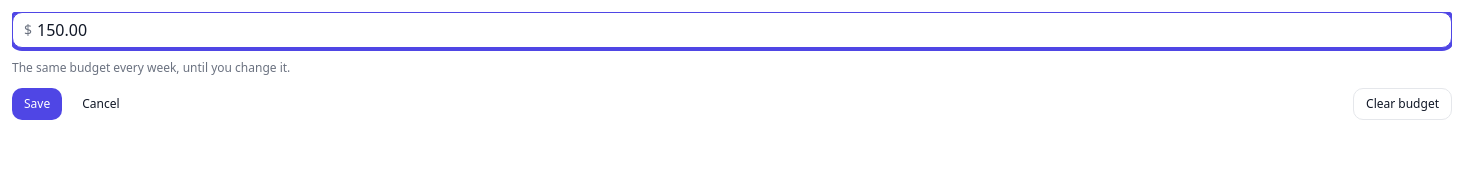
Test: WeekBudgetEditor › refuses what is not an amount, or below zero, before sending anything
Replace the text in the field named "Weekly budget for Groceries" with "lots": (732, 30) [12, 12, 1452, 48]
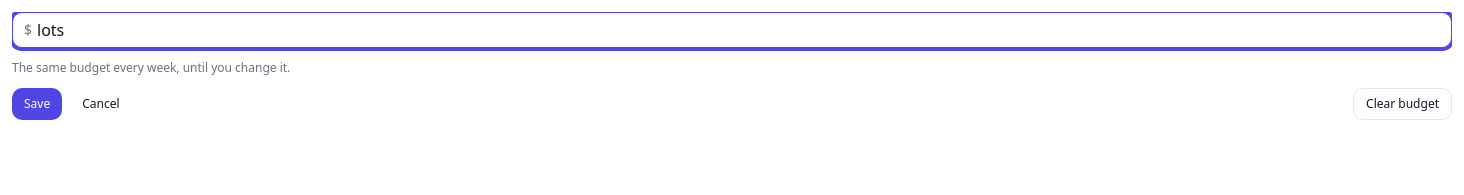
Click the button "Save": (37, 104) [12, 88, 62, 120]
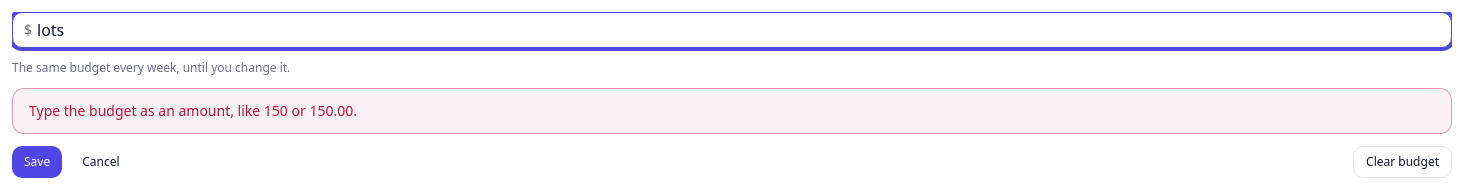
Result: the text "Type the budget as an amount, like 150 or 150.00." is shown at [29, 101, 357, 120]
Replace the text in the field named "Weekly budget for Groceries" with "-5": (732, 30) [12, 12, 1452, 48]
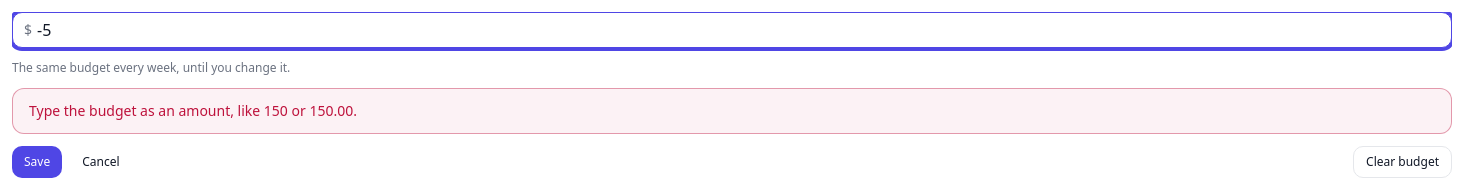
Click the button "Save": (37, 162) [12, 146, 62, 178]
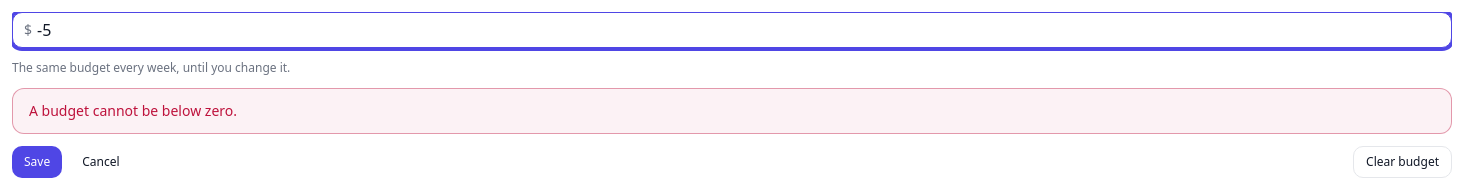
Result: the text "A budget cannot be below zero." is shown at [29, 101, 237, 120]
Replace the text in the field named "Weekly budget for Groceries" with "90071992547409.91": (732, 30) [12, 12, 1452, 48]
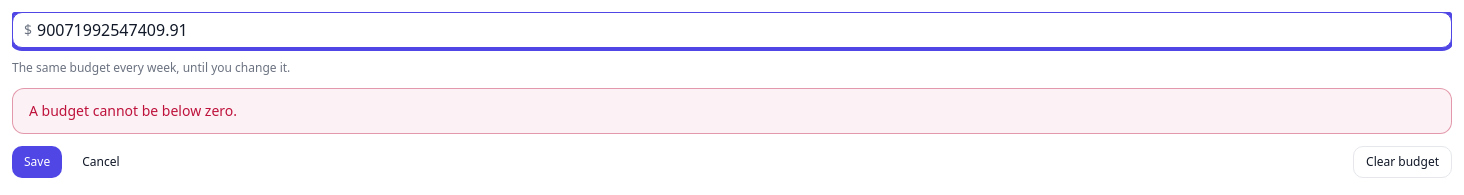
Click the button "Save": (37, 162) [12, 146, 62, 178]
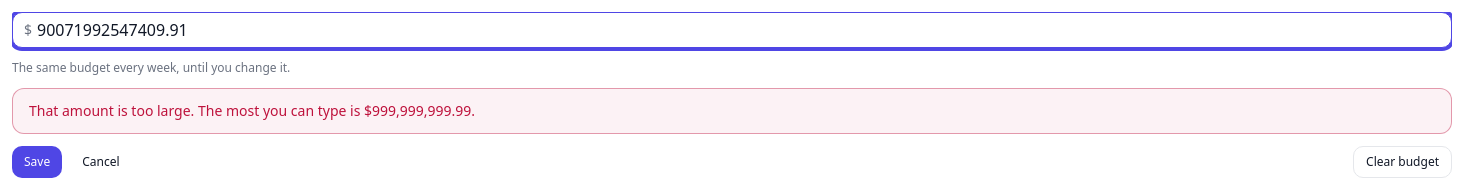
Result: the text "That amount is too large. The most you can type is $999,999,999.99." is shown at [29, 101, 475, 120]
